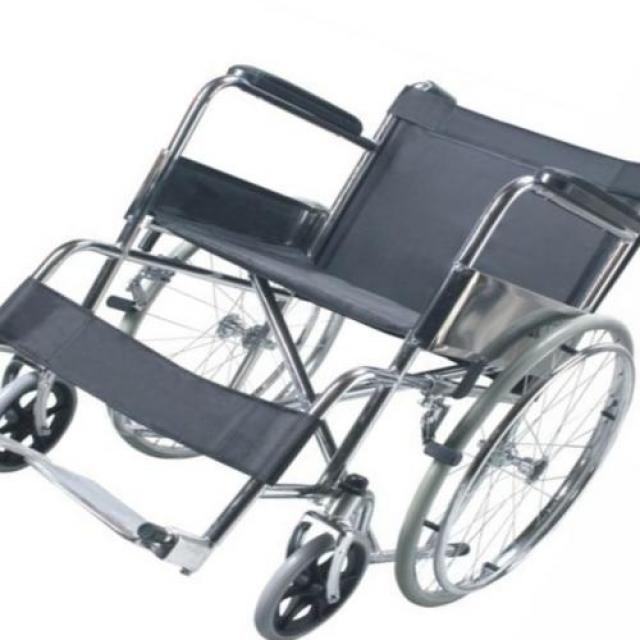wheelchair: (1, 60, 640, 640)
